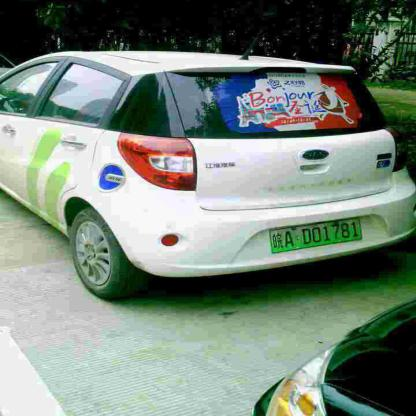lp: (268, 218, 362, 253)
